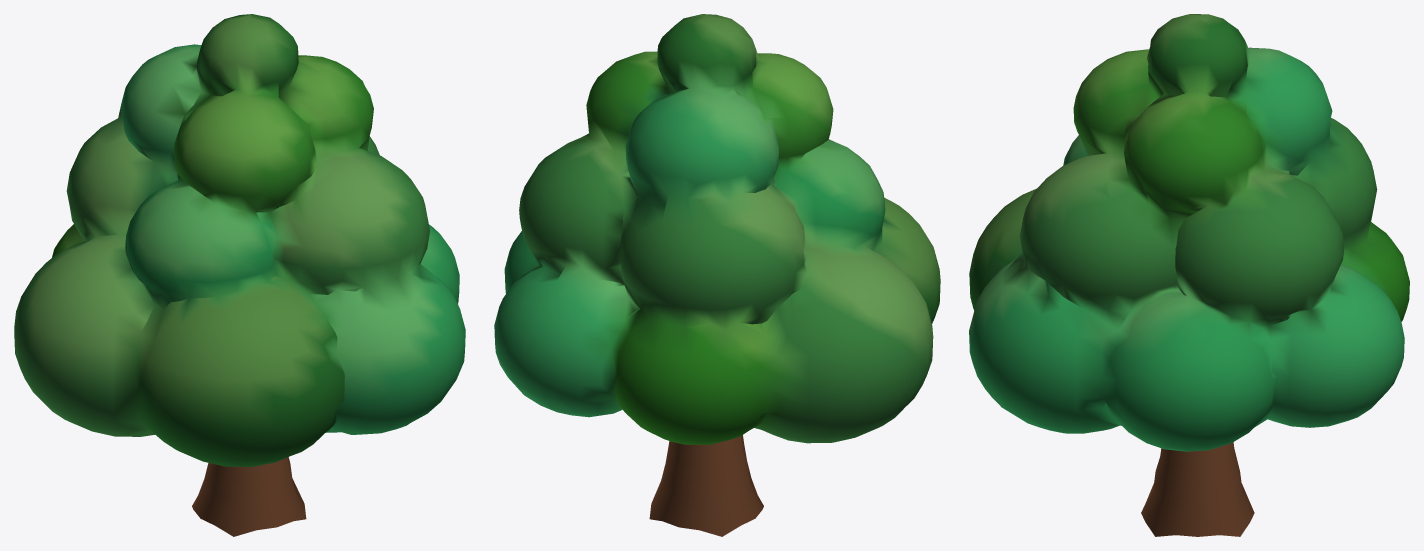
Rendered from pine-tree-112-lod1.obj.
The picture shows the model from 3 angles, left to right: view 1: azimuth 30°, elevation 25°; view 2: azimuth 150°, elevation 25°; view 3: azimuth 270°, elevation 25°; orthographic projection.
Visible parts, largest first — view 1: simplified; view 2: simplified; view 3: simplified.
Part boxes in pixels (left/top/right/bottom): simplified: left=14, top=14, right=465, bottom=536; simplified: left=494, top=14, right=940, bottom=536; simplified: left=969, top=14, right=1409, bottom=536.
Bounding box in the file's own units: 282 × 325 × 259.
